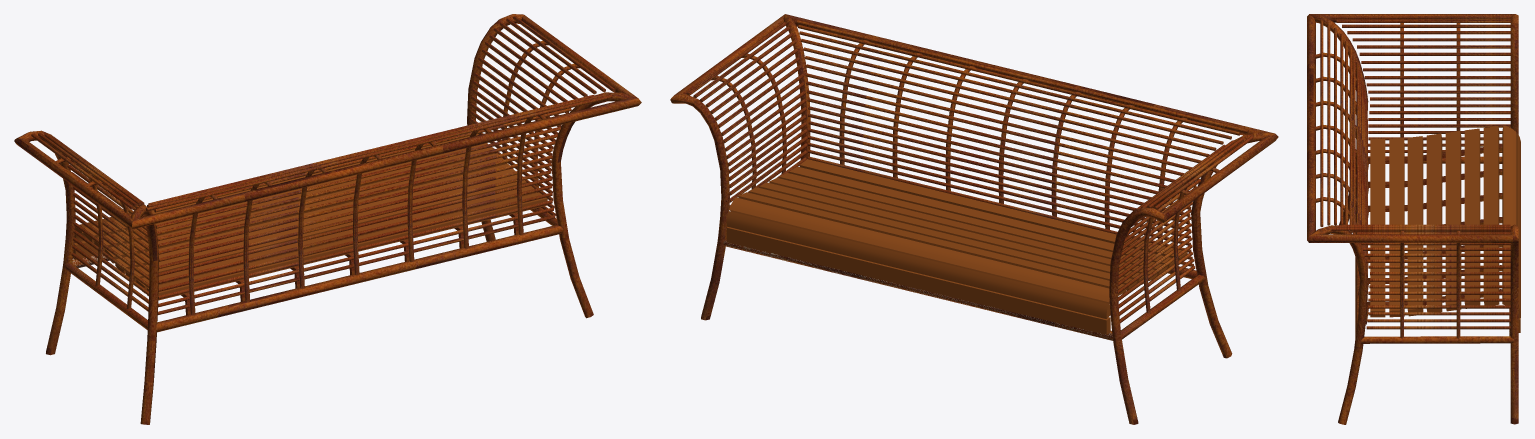
3 renders of one model, left to right at view 1: azimuth 30°, elevation 25°; view 2: azimuth 150°, elevation 25°; view 3: azimuth 270°, elevation 25°, orthographic. The views are drawn at different scales.
Visible parts, largest first — view 1: mesh164_mesh164-geometry, mesh168_mesh168-geometry, mesh170_mesh170-geometry, mesh5_mesh5-geometry, mesh8_mesh8-geometry, mesh13_mesh13-geometry, mesh3_mesh3-geometry, mesh140_mesh140-geometry, mesh1_mesh1-geometry, mesh142_mesh142-geometry, mesh152_mesh152-geometry, mesh135_mesh135-geometry (+16 smaller); view 2: mesh164_mesh164-geometry, mesh166_mesh166-geometry, mesh168_mesh168-geometry, mesh169_mesh169-geometry, mesh5_mesh5-geometry, mesh1_mesh1-geometry, mesh11_mesh11-geometry, mesh8_mesh8-geometry, mesh3_mesh3-geometry, mesh140_mesh140-geometry, mesh142_mesh142-geometry, mesh154_mesh154-geometry (+17 smaller); view 3: mesh164_mesh164-geometry, mesh168_mesh168-geometry, mesh166_mesh166-geometry, mesh13_mesh13-geometry, mesh11_mesh11-geometry, mesh169_mesh169-geometry, mesh8_mesh8-geometry, mesh5_mesh5-geometry, mesh15_mesh15-geometry, mesh1_mesh1-geometry, mesh140_mesh140-geometry, mesh142_mesh142-geometry (+49 smaller).
Part boxes in pixels (x1,y1,x2,y2): mesh164_mesh164-geometry: [73, 134, 547, 300]; mesh168_mesh168-geometry: [14, 15, 641, 229]; mesh170_mesh170-geometry: [156, 224, 563, 332]; mesh5_mesh5-geometry: [56, 154, 382, 315]; mesh8_mesh8-geometry: [407, 40, 581, 261]; mesh13_mesh13-geometry: [551, 92, 637, 318]; mesh3_mesh3-geometry: [131, 205, 158, 424]; mesh140_mesh140-geometry: [145, 94, 612, 211]; mesh1_mesh1-geometry: [16, 130, 75, 355]; mesh142_mesh142-geometry: [147, 94, 603, 207]; mesh152_mesh152-geometry: [156, 127, 560, 228]; mesh135_mesh135-geometry: [157, 134, 557, 234]; mesh164_mesh164-geometry: [726, 159, 1187, 334]; mesh166_mesh166-geometry: [726, 197, 1110, 318]; mesh168_mesh168-geometry: [675, 14, 1278, 222]; mesh169_mesh169-geometry: [723, 239, 1204, 340]; mesh5_mesh5-geometry: [998, 79, 1219, 313]; mesh1_mesh1-geometry: [1109, 207, 1164, 424]; mesh11_mesh11-geometry: [670, 94, 729, 320]; mesh8_mesh8-geometry: [709, 40, 975, 190]; mesh3_mesh3-geometry: [1191, 132, 1274, 358]; mesh140_mesh140-geometry: [797, 20, 1248, 133]; mesh142_mesh142-geometry: [798, 25, 1240, 135]; mesh154_mesh154-geometry: [799, 31, 1231, 139]; mesh164_mesh164-geometry: [1370, 126, 1520, 332]; mesh168_mesh168-geometry: [1307, 14, 1518, 242]; mesh166_mesh166-geometry: [1502, 125, 1520, 318]; mesh13_mesh13-geometry: [1310, 225, 1368, 424]; mesh11_mesh11-geometry: [1510, 224, 1518, 424]; mesh169_mesh169-geometry: [1361, 156, 1513, 343]; mesh8_mesh8-geometry: [1315, 149, 1460, 338]; mesh5_mesh5-geometry: [1315, 19, 1460, 162]; mesh15_mesh15-geometry: [1365, 145, 1510, 324]; mesh1_mesh1-geometry: [1510, 14, 1518, 134]; mesh140_mesh140-geometry: [1320, 20, 1323, 226]; mesh142_mesh142-geometry: [1327, 23, 1330, 225].
Bounding box in the file's own units: 0.8619 × 0.3692 × 0.3476.
